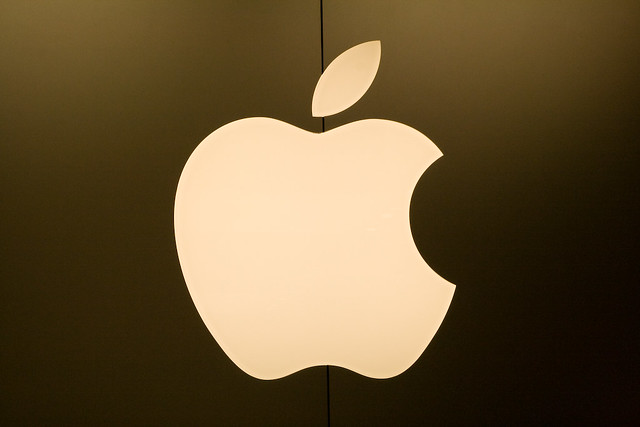apple: (171, 37, 461, 384)
